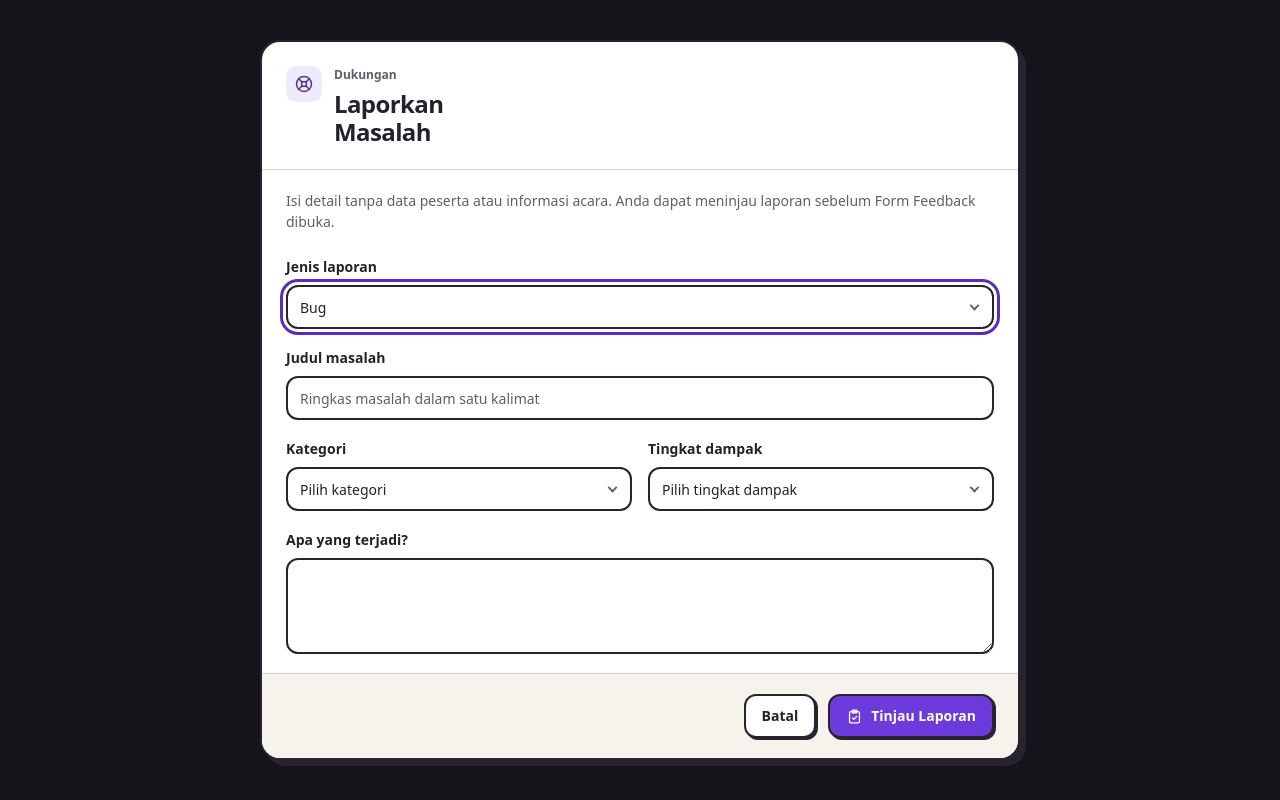
Test: ReportIssueModal › validates all required fields and cannot open the external form before review
Expected: the dropdown labelled "Jenis laporan" shows "Bug", 286,285 -> 994,329
Click the button "Tinjau Laporan" at (911, 716), box 828,694 -> 994,738
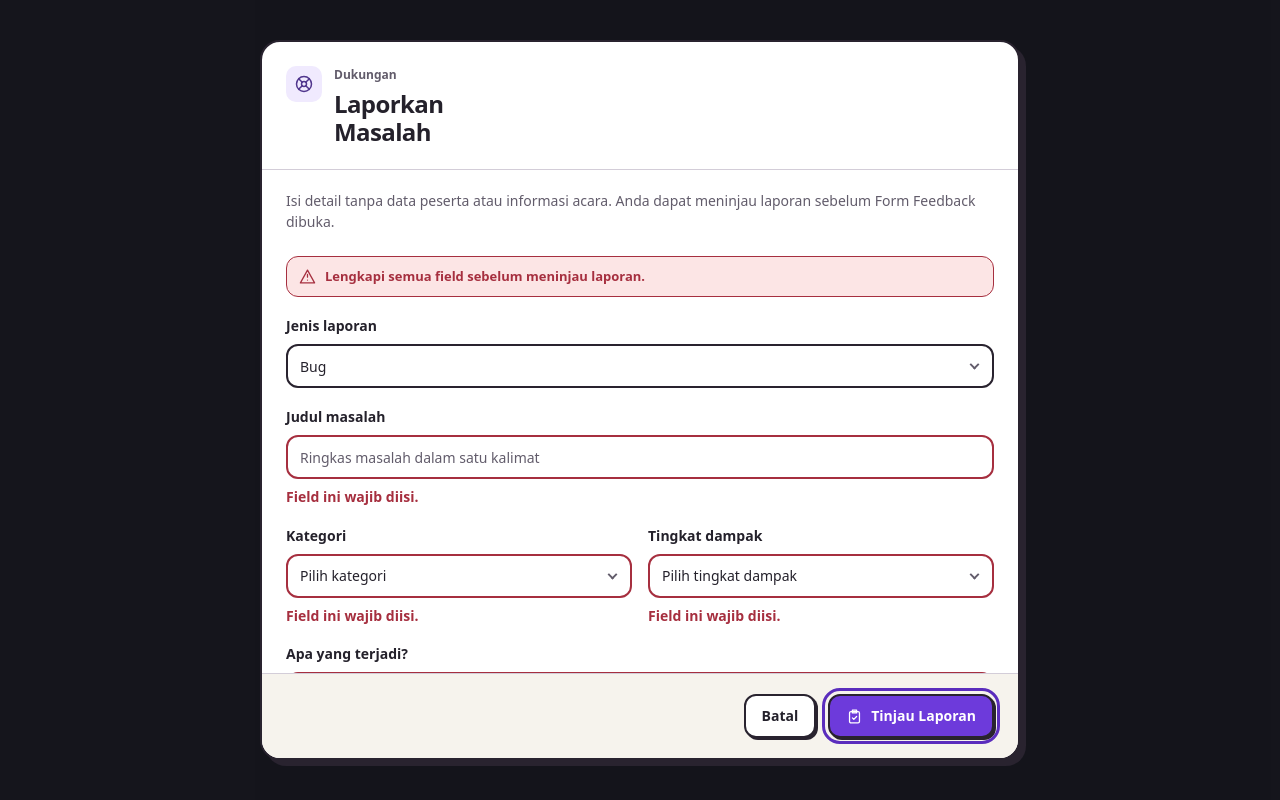
Expected: the text "Field ini wajib diisi." is shown 6 times
Expected: the message shows "Lengkapi semua field", 325,267 -> 645,285
